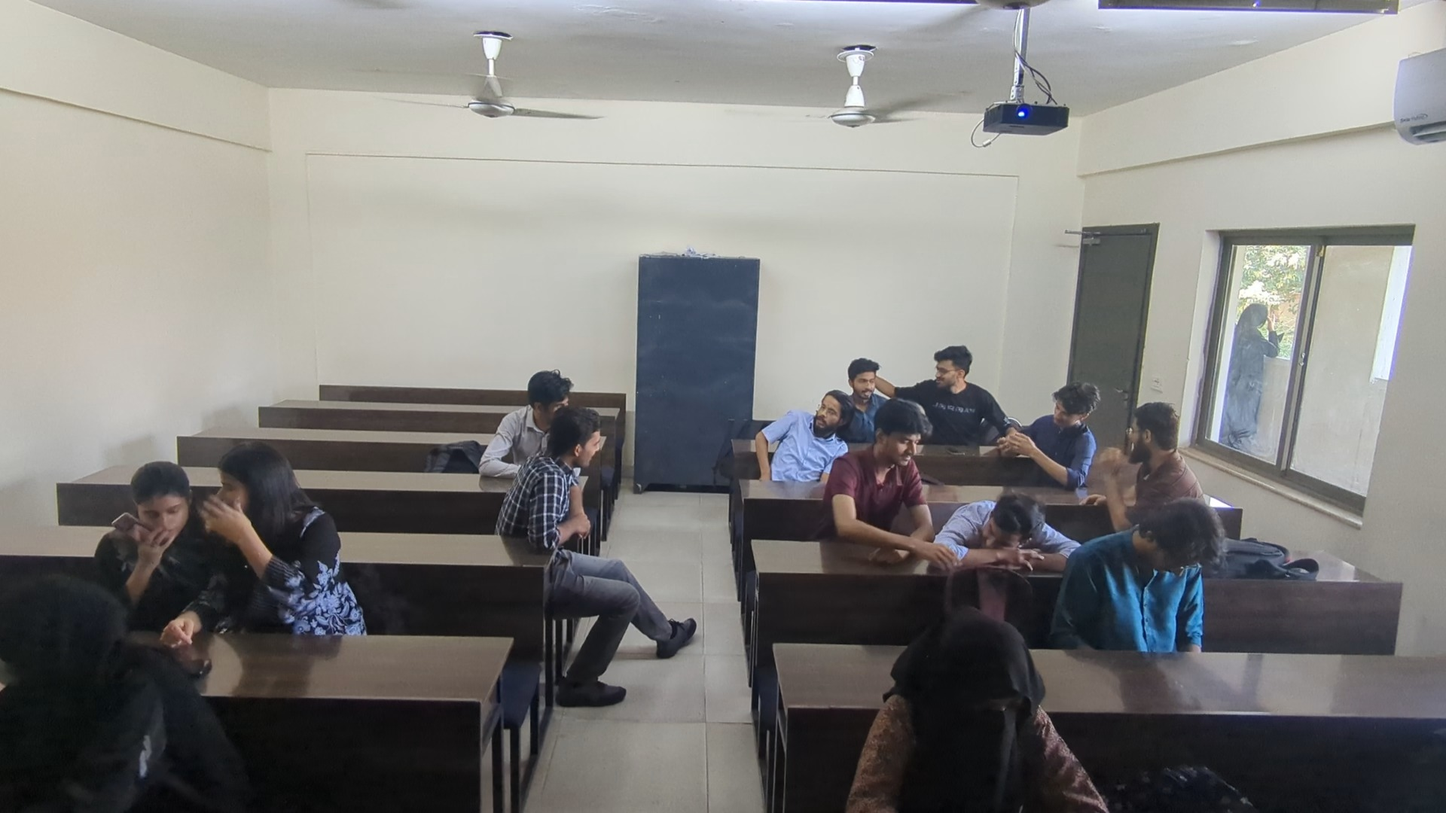look_forward: (814, 347, 893, 407)
sleep: (102, 457, 199, 593), (969, 496, 1080, 596)
turn_head: (1, 560, 196, 775), (198, 440, 325, 574), (504, 412, 614, 542), (1030, 374, 1123, 503), (1111, 417, 1215, 514), (860, 409, 939, 534), (923, 351, 1009, 455), (767, 394, 840, 488), (513, 376, 591, 442)
using_device: (887, 620, 1022, 813), (1103, 510, 1227, 657)
